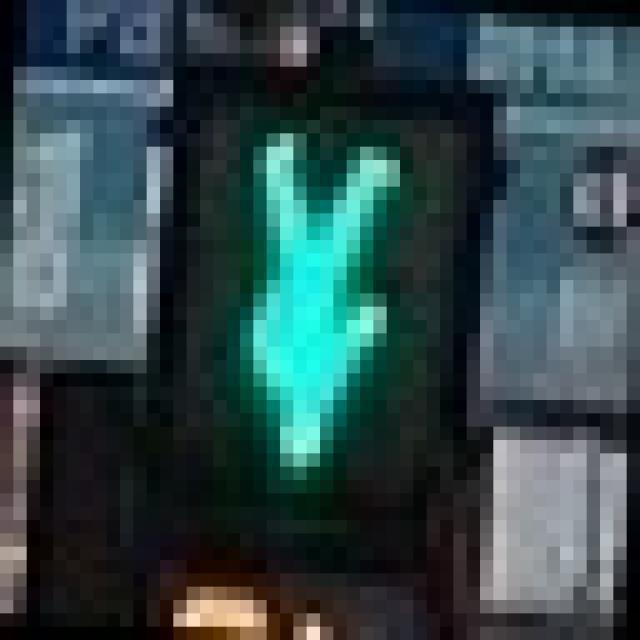geen-crossing: (133, 67, 467, 520)
